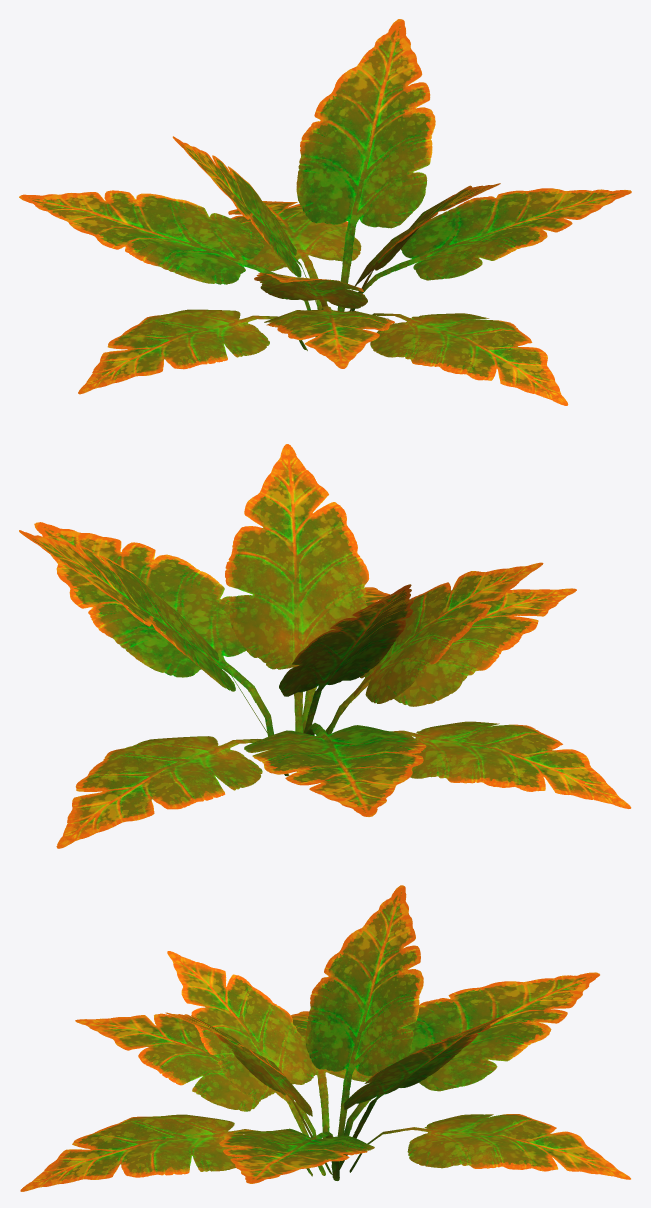
The model's file is SM_Elephant_ear_low_bush_LOD0.fbx.
3 renders of one model, top to bottom at view 1: azimuth 30°, elevation 25°; view 2: azimuth 150°, elevation 25°; view 3: azimuth 270°, elevation 25°, orthographic. The views are drawn at different scales.
Visible parts, largest first — view 1: SM_Elephant_ear_low_bush_LOD0_LOD0; view 2: SM_Elephant_ear_low_bush_LOD0_LOD0; view 3: SM_Elephant_ear_low_bush_LOD0_LOD0.
Part boxes in pixels (left/top/right/bottom): SM_Elephant_ear_low_bush_LOD0_LOD0: left=19, top=19, right=631, bottom=405; SM_Elephant_ear_low_bush_LOD0_LOD0: left=19, top=444, right=631, bottom=848; SM_Elephant_ear_low_bush_LOD0_LOD0: left=20, top=885, right=630, bottom=1191.
Bounding box in the file's own units: 282 × 270 × 118.
